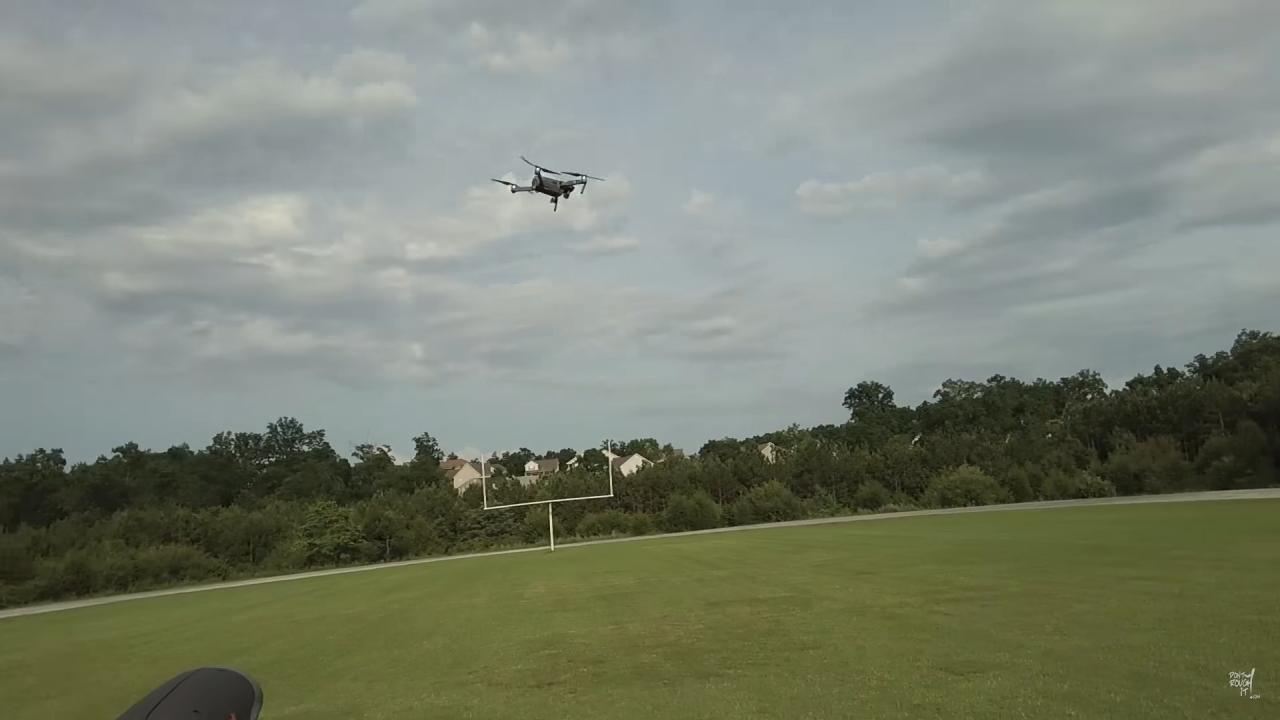Drone: (476, 146, 611, 222)
